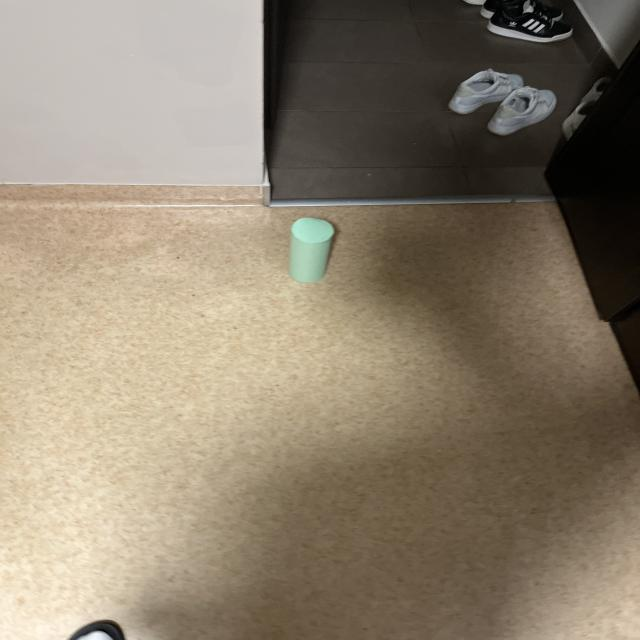meta: (289, 217, 334, 283)
